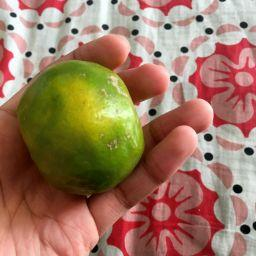Unripe: (19, 61, 145, 193)
